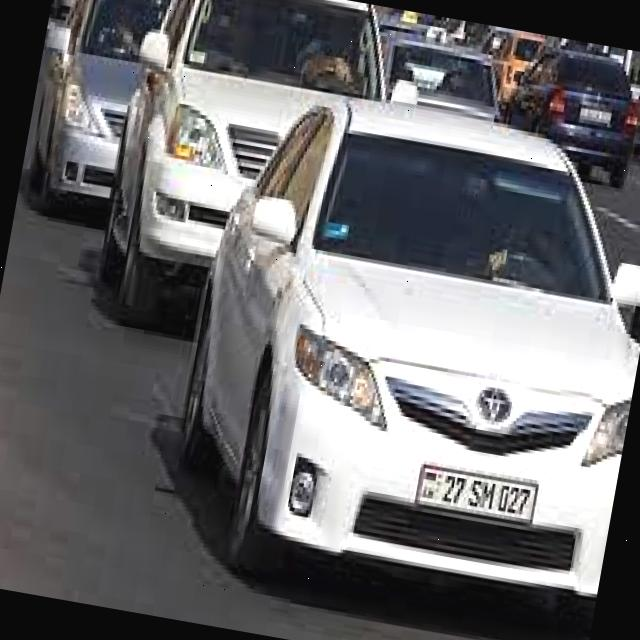number-plates: (410, 458, 540, 532)
